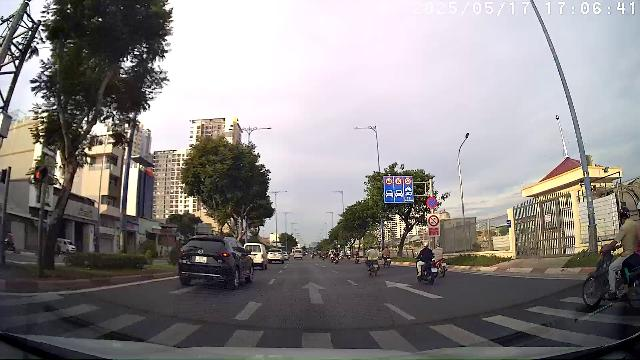127-toc-do-toi-da-50: (404, 177, 412, 185)
127-toc-do-toi-da-60: (386, 177, 392, 185), (396, 178, 402, 184)
130-cam-dung-va-do-xe: (427, 197, 438, 209)
